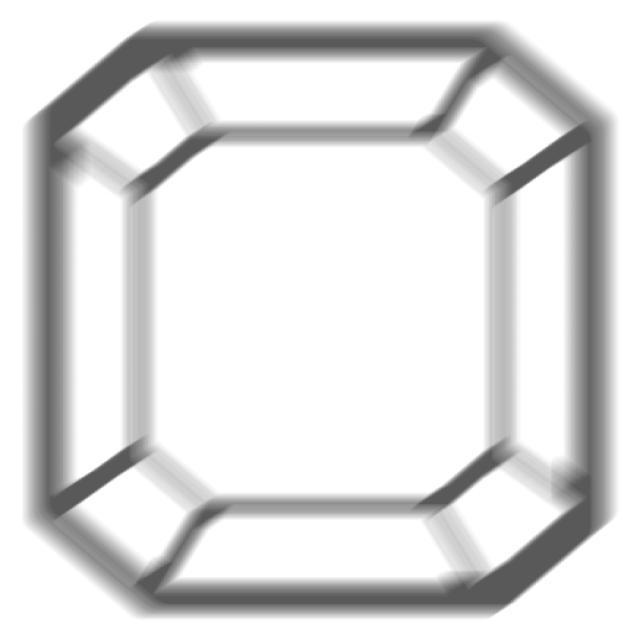emerald: (16, 18, 623, 624)
